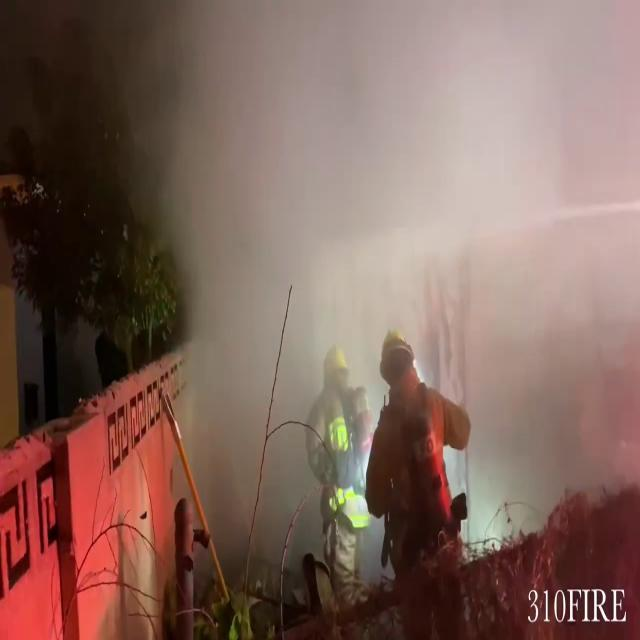Smoke: (130, 1, 640, 483)
